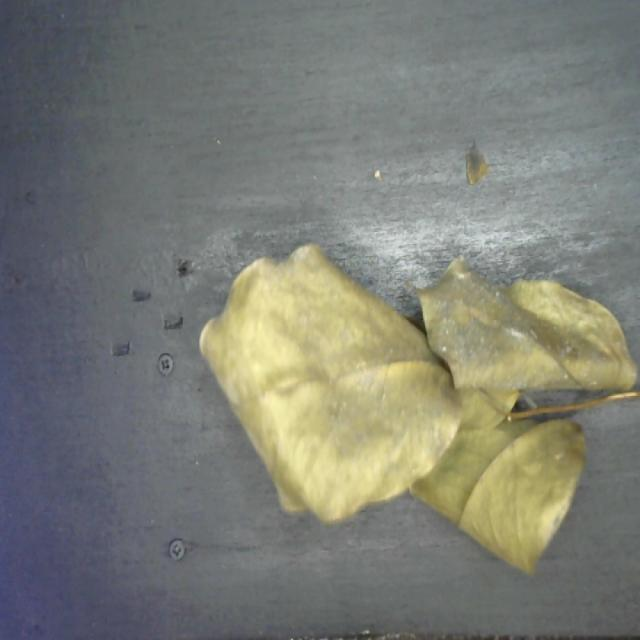biodegradable: (197, 241, 640, 578)
